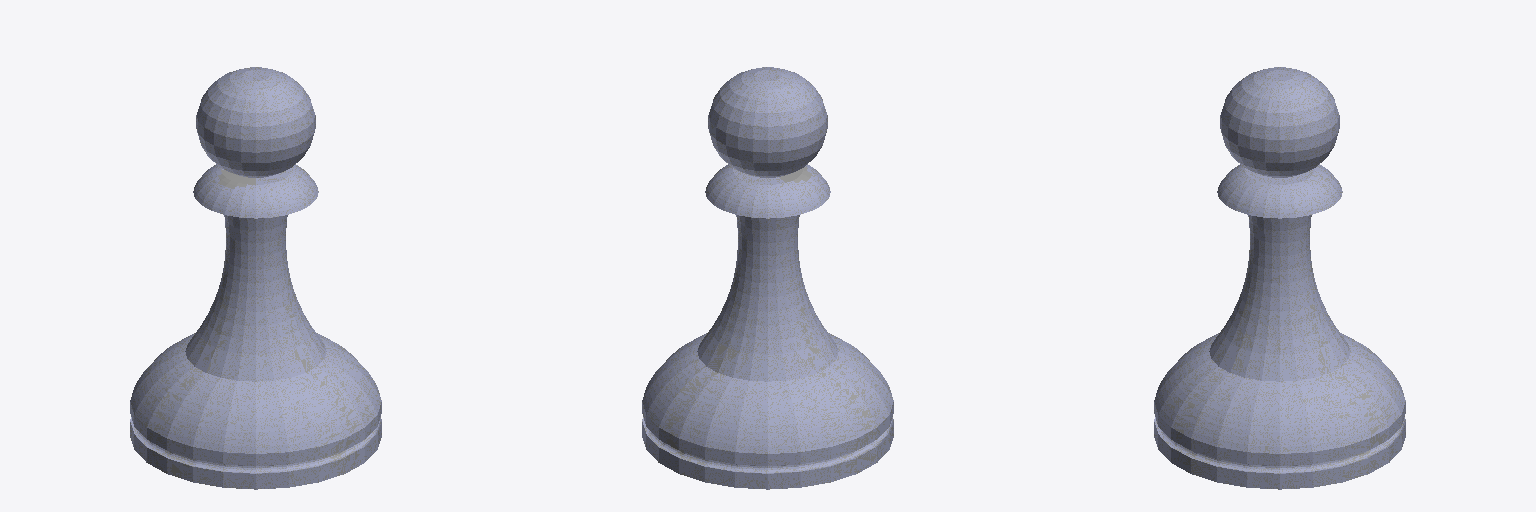
The model's file is 1_peon.obj.
3 views of the same model, side by side, from view 1: azimuth 30°, elevation 25°; view 2: azimuth 150°, elevation 25°; view 3: azimuth 270°, elevation 25° (orthographic).
Visible parts, largest first — view 1: instance_1_ID42, instance_1.001_ID57; view 2: instance_1_ID42, instance_1.001_ID57; view 3: instance_1_ID42, instance_1.001_ID57.
Boxes of the visible parts, <box> form: instance_1_ID42: <box>130,215,381,489</box>; instance_1.001_ID57: <box>193,67,318,218</box>; instance_1_ID42: <box>642,215,893,489</box>; instance_1.001_ID57: <box>705,67,830,218</box>; instance_1_ID42: <box>1154,215,1405,489</box>; instance_1.001_ID57: <box>1217,67,1342,218</box>.
Size of the model in its own units: 0.03 by 0.0474 by 0.03.